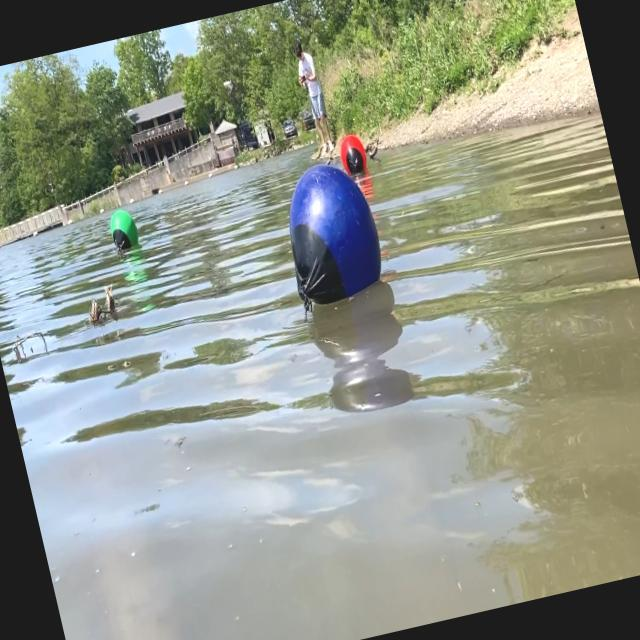buoy: (273, 154, 391, 308), (104, 204, 142, 259), (336, 131, 371, 177)
